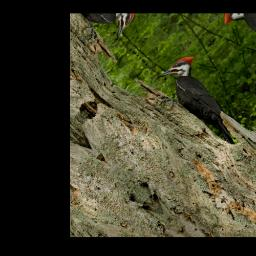Woodpecker: (144, 47, 256, 161)
